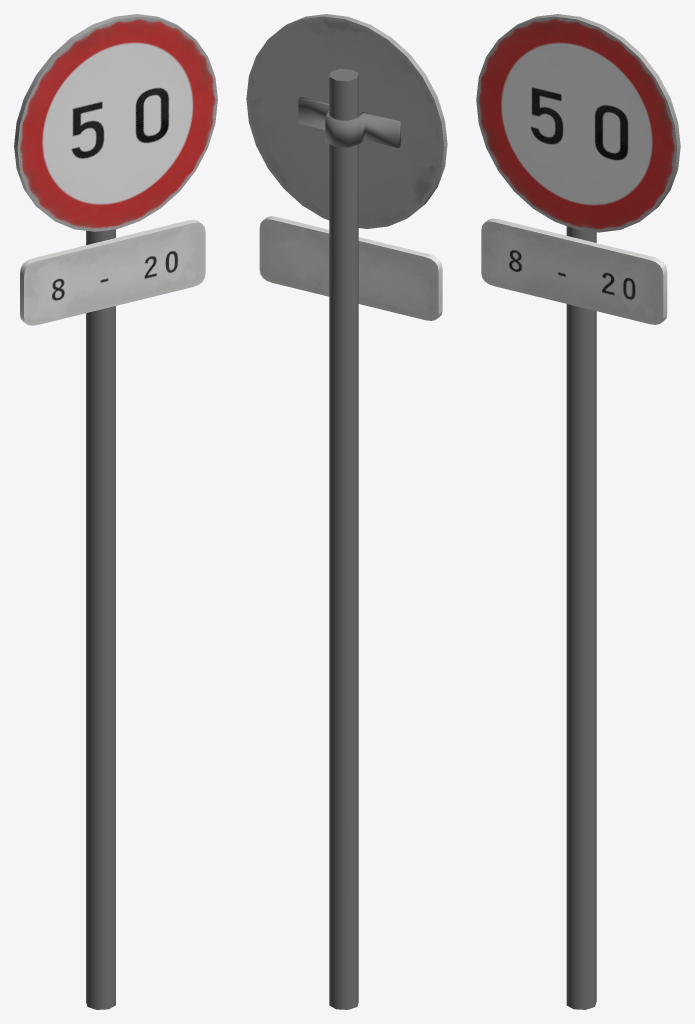
Rendered from SM_sign_traffic_005.fbx.
The picture shows the model from 3 angles, left to right: view 1: azimuth 30°, elevation 25°; view 2: azimuth 150°, elevation 25°; view 3: azimuth 330°, elevation 25°; orthographic projection.
Visible parts, largest first — view 1: Object32689; view 2: Object32689; view 3: Object32689.
Boxes of the visible parts, bbox=[...] form: Object32689: bbox=[14, 14, 217, 1009]; Object32689: bbox=[246, 14, 447, 1009]; Object32689: bbox=[476, 14, 680, 1009].
Size of the model in its own units: 23.53 by 111 by 4.34.
